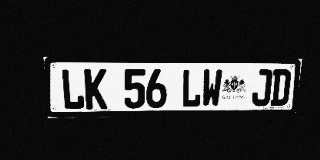5: (124, 69, 145, 109)
6: (146, 69, 167, 108)
D: (270, 69, 292, 106)
J: (251, 69, 273, 106)
K: (84, 69, 107, 109)
L: (60, 69, 85, 110), (181, 69, 202, 108)
W: (201, 69, 223, 107)
